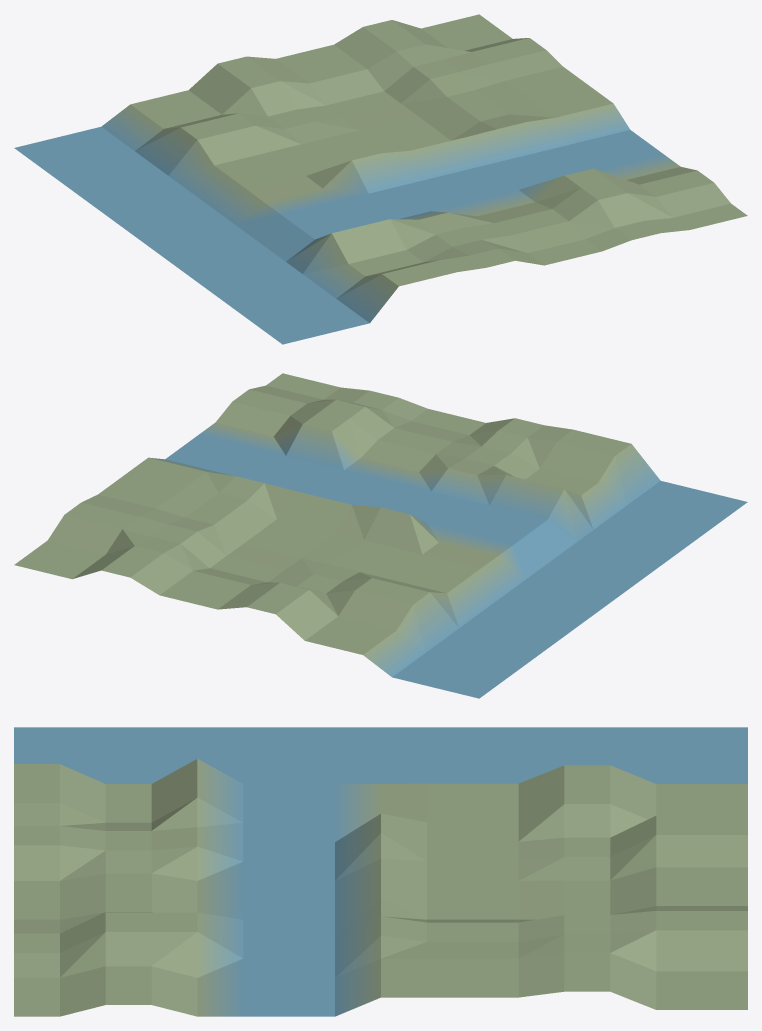
3 renders of one model, top to bottom at view 1: azimuth 30°, elevation 25°; view 2: azimuth 150°, elevation 25°; view 3: azimuth 270°, elevation 25°, orthographic. The views are drawn at different scales.
Size of the model in its own units: 32 by 2.38 by 32.
